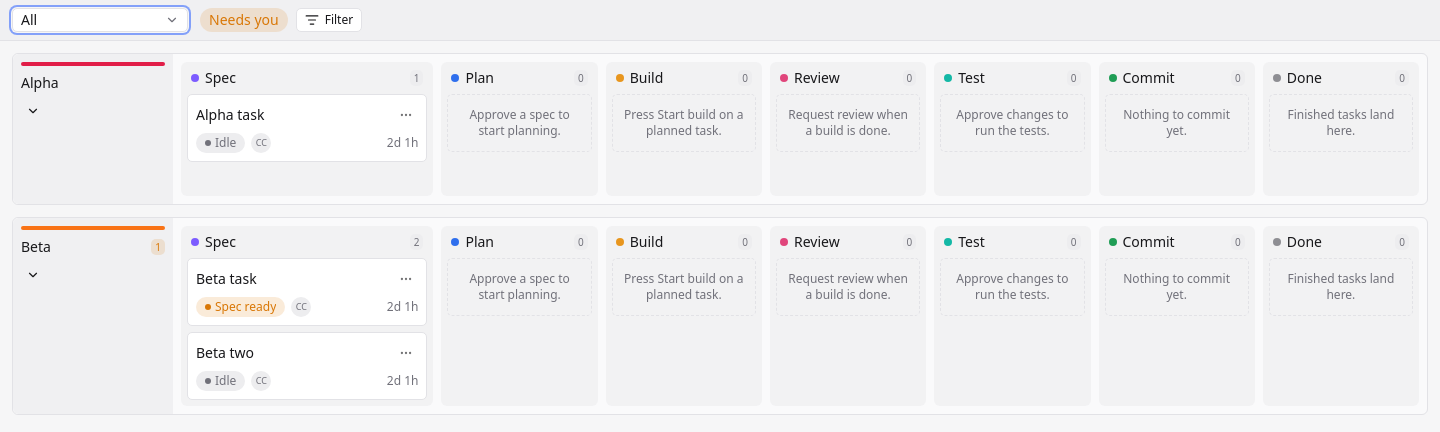
Test case: workspace board modes › one_project shows a picker; picking a project shows only its columns
Press Arrowdown
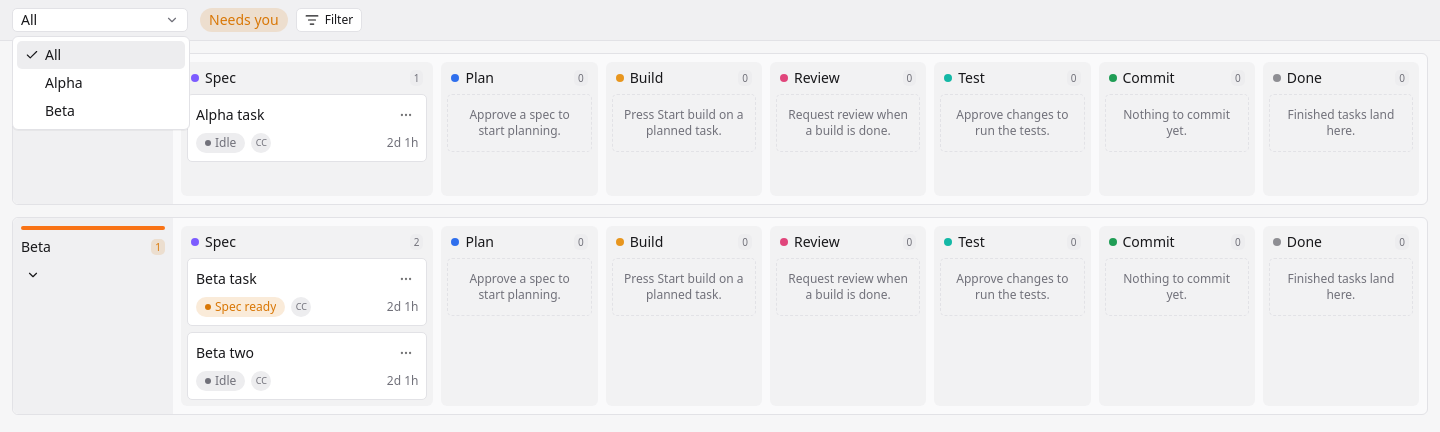
Click the option "Beta": x=60, y=110 x1=45 y1=101 x2=75 y2=120
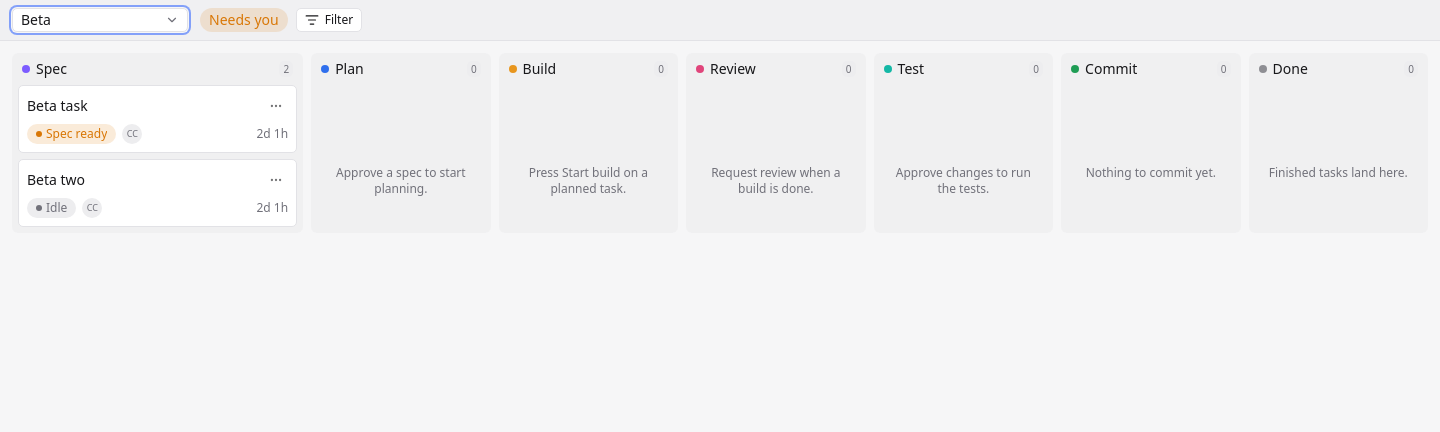
Result: the text "Alpha task" is gone
Result: the row is gone
Result: the dropdown named "Project" reads "Beta" at x1=12 y1=8 x2=188 y2=32
